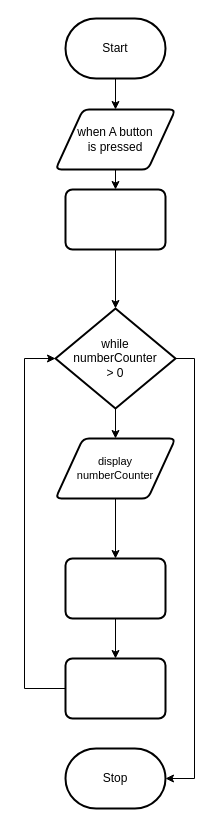
The diagram is 220 pixels wide and 826 high, and some of its shapes have lost their labels. Here are the shapes that lost their labels. From the top down, the box of each, then its label:
(64, 188, 166, 250): turn on all 4 neopixels
(64, 557, 166, 619): subtract 1 to numberCounter
(64, 657, 166, 719): turn off a neopixel
